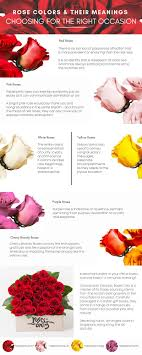lale: (4, 268, 77, 323), (81, 72, 142, 125), (0, 185, 46, 246), (94, 217, 142, 271), (0, 130, 45, 180), (11, 32, 53, 81), (111, 124, 142, 180), (48, 296, 61, 308), (22, 285, 34, 298), (14, 280, 28, 291)
